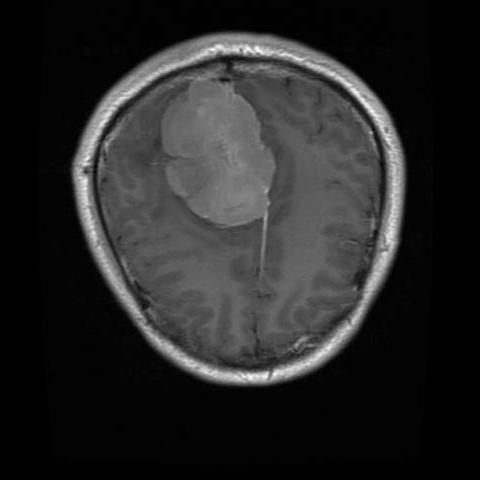Tumour-Meningioma: (142, 73, 298, 254)
